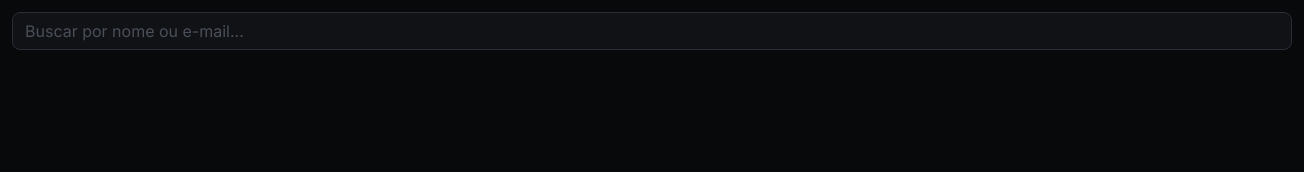
Test: EmailIndividualPicker › busca depois do debounce e lista sugestões
In the field: (652,31) [12,12,1292,50], type "ana"
Wait 500 ms
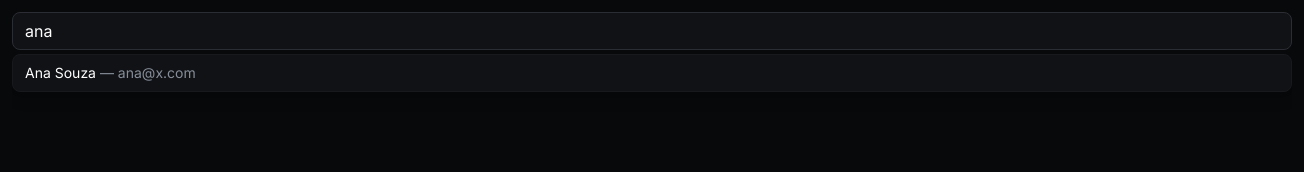
Now the text "Ana Souza" is shown, box [25,64,96,81]
